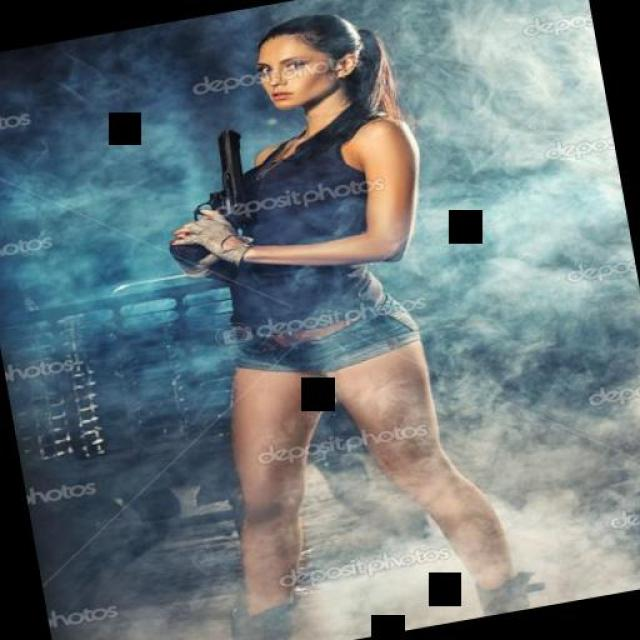gun: (130, 114, 275, 286)
